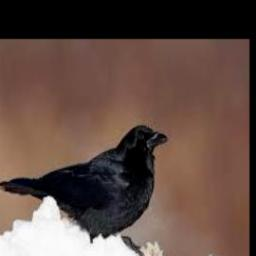Crow: (0, 125, 169, 256)
